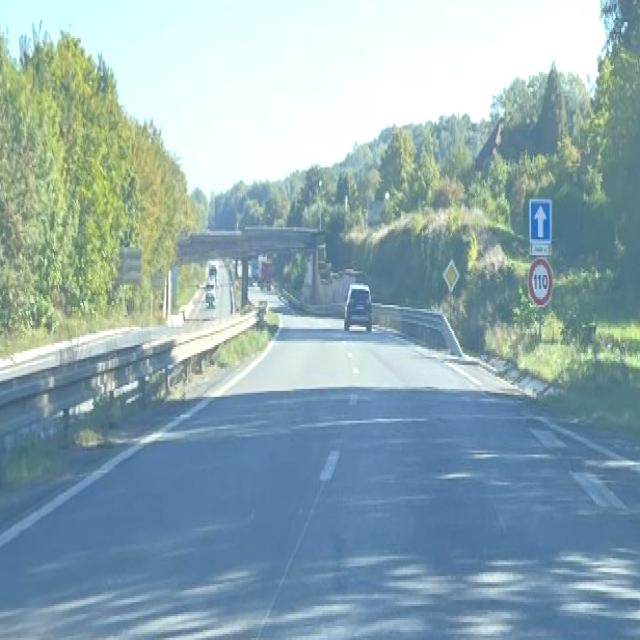speed_110: (528, 258, 554, 306)
